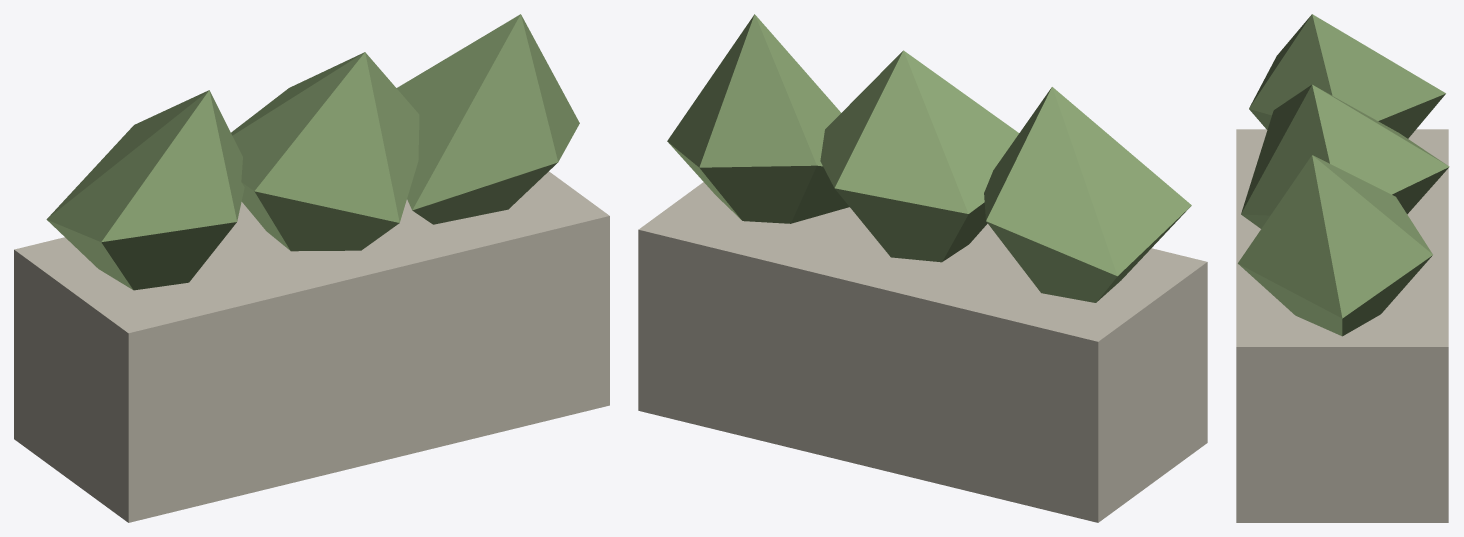
3 renders of one model, left to right at view 1: azimuth 30°, elevation 25°; view 2: azimuth 150°, elevation 25°; view 3: azimuth 270°, elevation 25°, orthographic. The views are drawn at different scales.
Size of the model in its own units: 1.82 by 1.26 by 0.7036.
